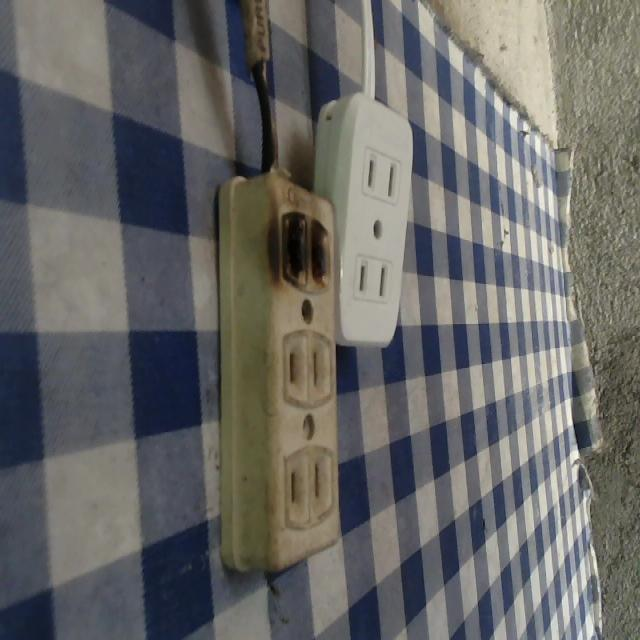-: (271, 204, 336, 299)
